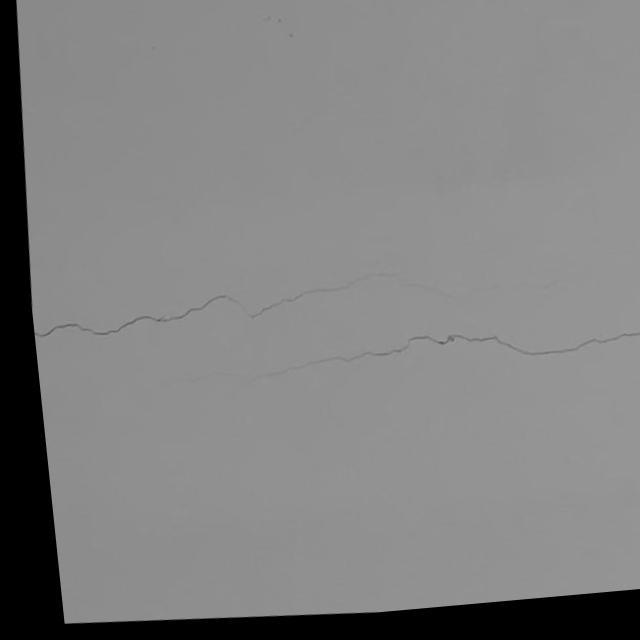Crack: (37, 267, 387, 341), (261, 330, 637, 376)
